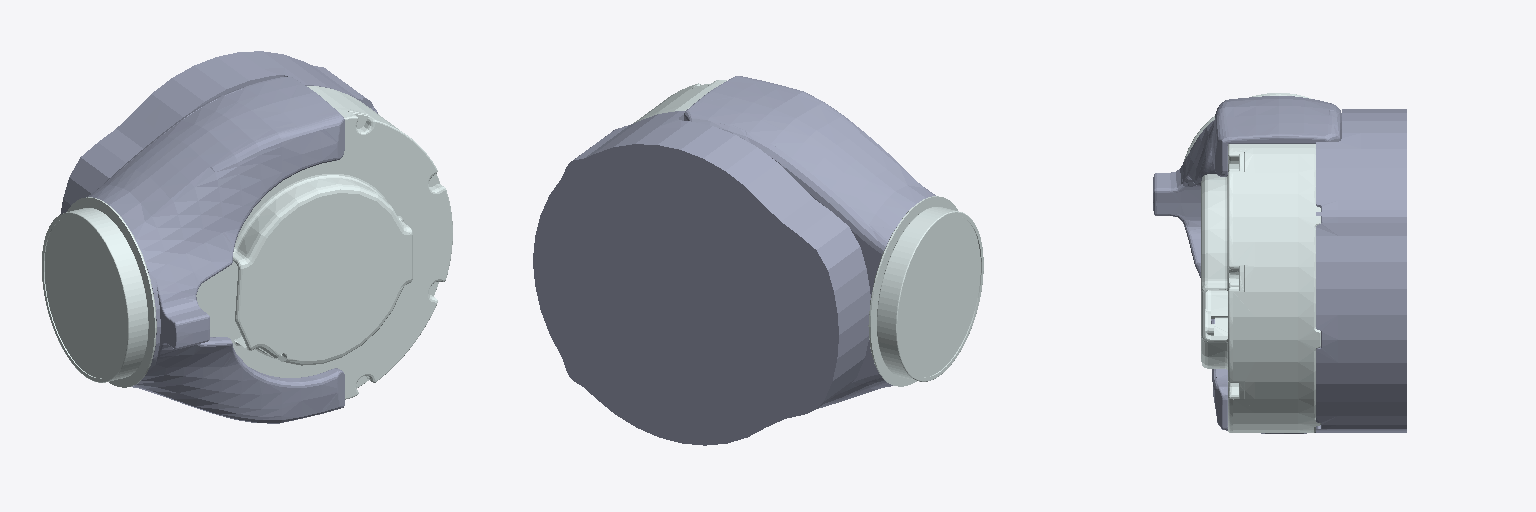
The model's file is hip.obj.
3 renders of one model, left to right at view 1: azimuth 30°, elevation 25°; view 2: azimuth 150°, elevation 25°; view 3: azimuth 270°, elevation 25°, orthographic.
Parts seen in each view (by area): view 1: hip_008-mesh; view 2: hip_008-mesh; view 3: hip_008-mesh.
Boxes of the visible parts, x1,y1,x2,y2 form: hip_008-mesh: [42, 51, 452, 423]; hip_008-mesh: [533, 76, 983, 445]; hip_008-mesh: [1153, 93, 1406, 433].
Bounding box in the file's own units: 0.1181 × 0.0985 × 0.0756.